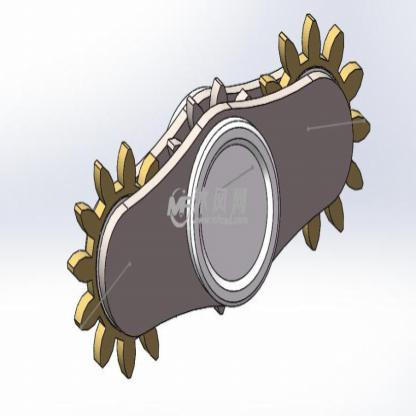FOD: (64, 141, 170, 384)
